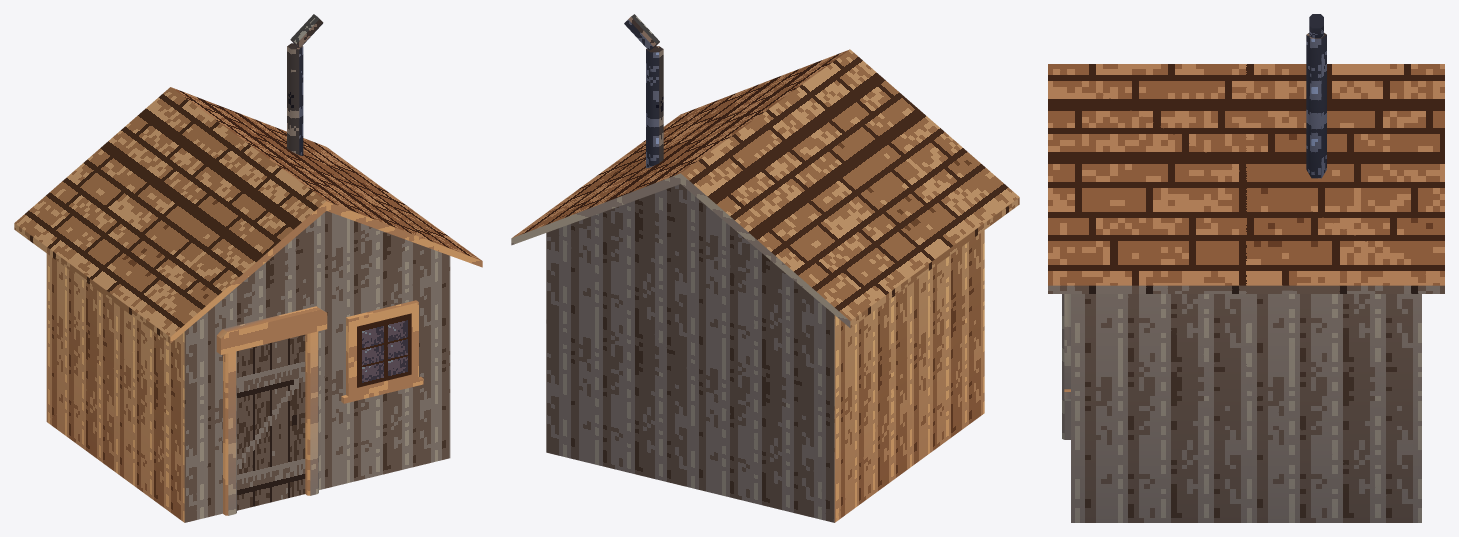
The model's file is wtown.shack__shingle.glb.
3 views of the same model, side by side, from view 1: azimuth 30°, elevation 25°; view 2: azimuth 150°, elevation 25°; view 3: azimuth 270°, elevation 25° (orthographic). The views are drawn at different scales.
Visible parts, largest first — view 1: kit_body, kit_roof, kit_card_panes, kit_trim, kit_windows, kit_pipe; view 2: kit_body, kit_roof, kit_pipe; view 3: kit_roof, kit_body, kit_pipe, kit_windows, kit_trim.
Part boxes in pixels (x1,y1,x2,y2): kit_body: (46, 211, 450, 522); kit_roof: (14, 87, 482, 343); kit_card_panes: (237, 313, 411, 510); kit_trim: (216, 306, 327, 515); kit_windows: (341, 300, 423, 403); kit_pipe: (287, 43, 303, 155); kit_body: (546, 184, 984, 522); kit_roof: (511, 49, 1019, 328); kit_pipe: (646, 46, 663, 168); kit_roof: (1048, 64, 1444, 293); kit_body: (1071, 294, 1421, 522); kit_pipe: (1306, 33, 1326, 178); kit_windows: (1064, 294, 1070, 399); kit_trim: (1062, 294, 1070, 439).
Bounding box in the file's own units: 4 × 4.67 × 3.46.
6 materials, 6 textured.
